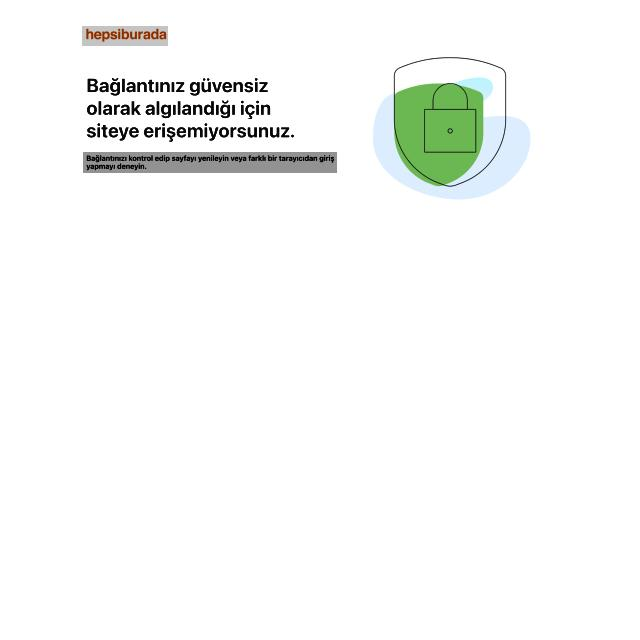Input field: (83, 152, 337, 173)
content: (366, 48, 534, 204)
date picker: (82, 26, 168, 46)
image: (85, 71, 296, 145)
